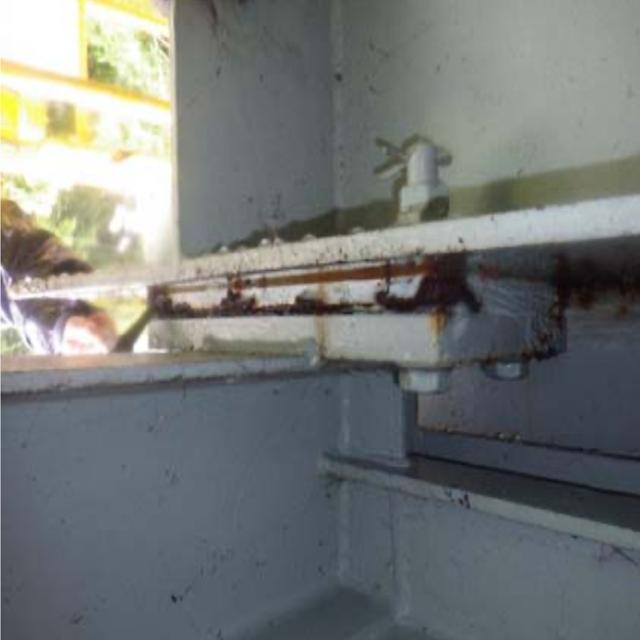corrosion: (122, 241, 577, 356)
